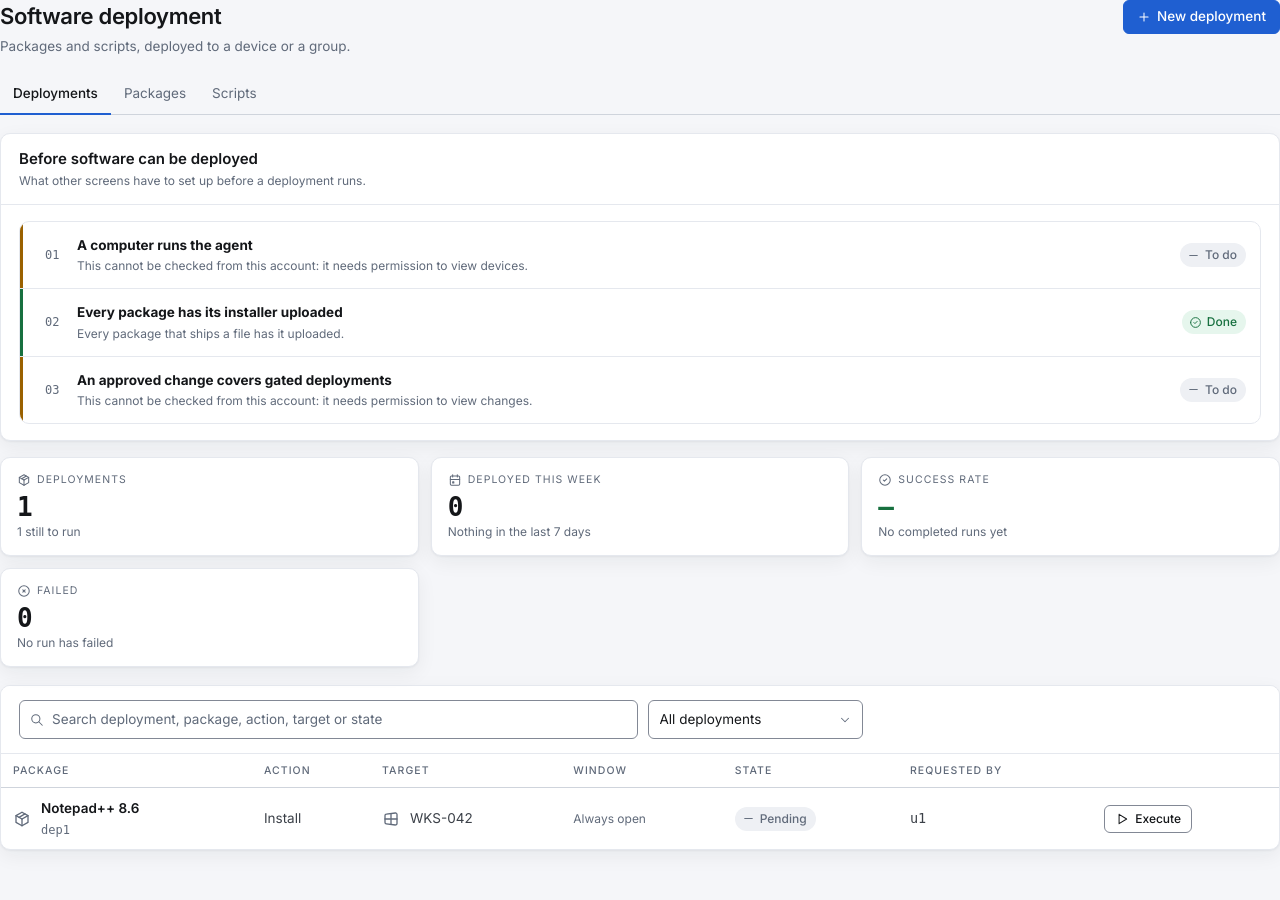
Test: CreateDeploymentDialog › refuses an empty form and names both missing fields on screen
The image size is (1280, 900).
Expected: the text "dep1" is shown, [41,823,70,837]
Click the button "New deployment".
click(1202, 17)  # box [1123,0,1279,34]
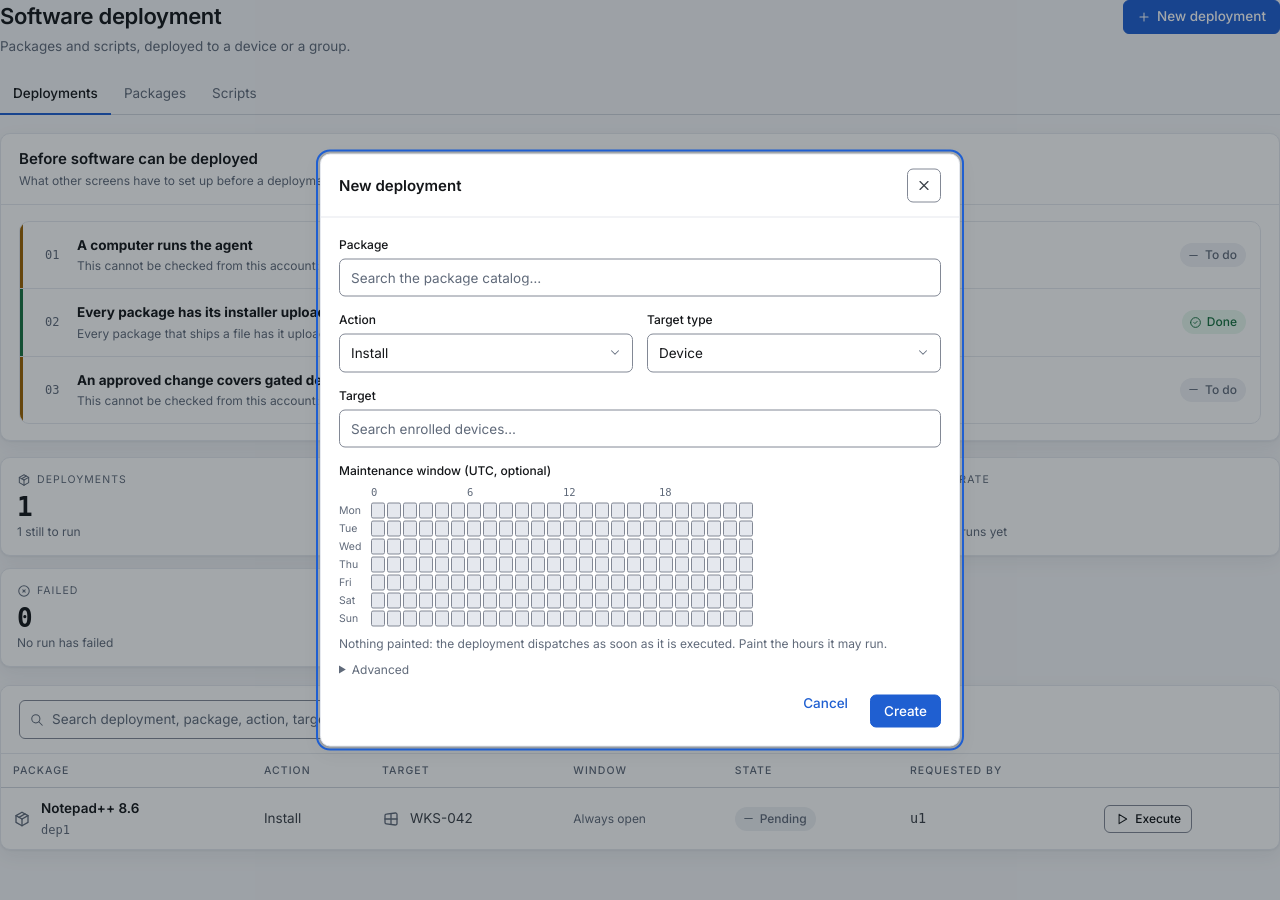
Click the button "Create".
click(906, 711)  # box [870,694,941,728]
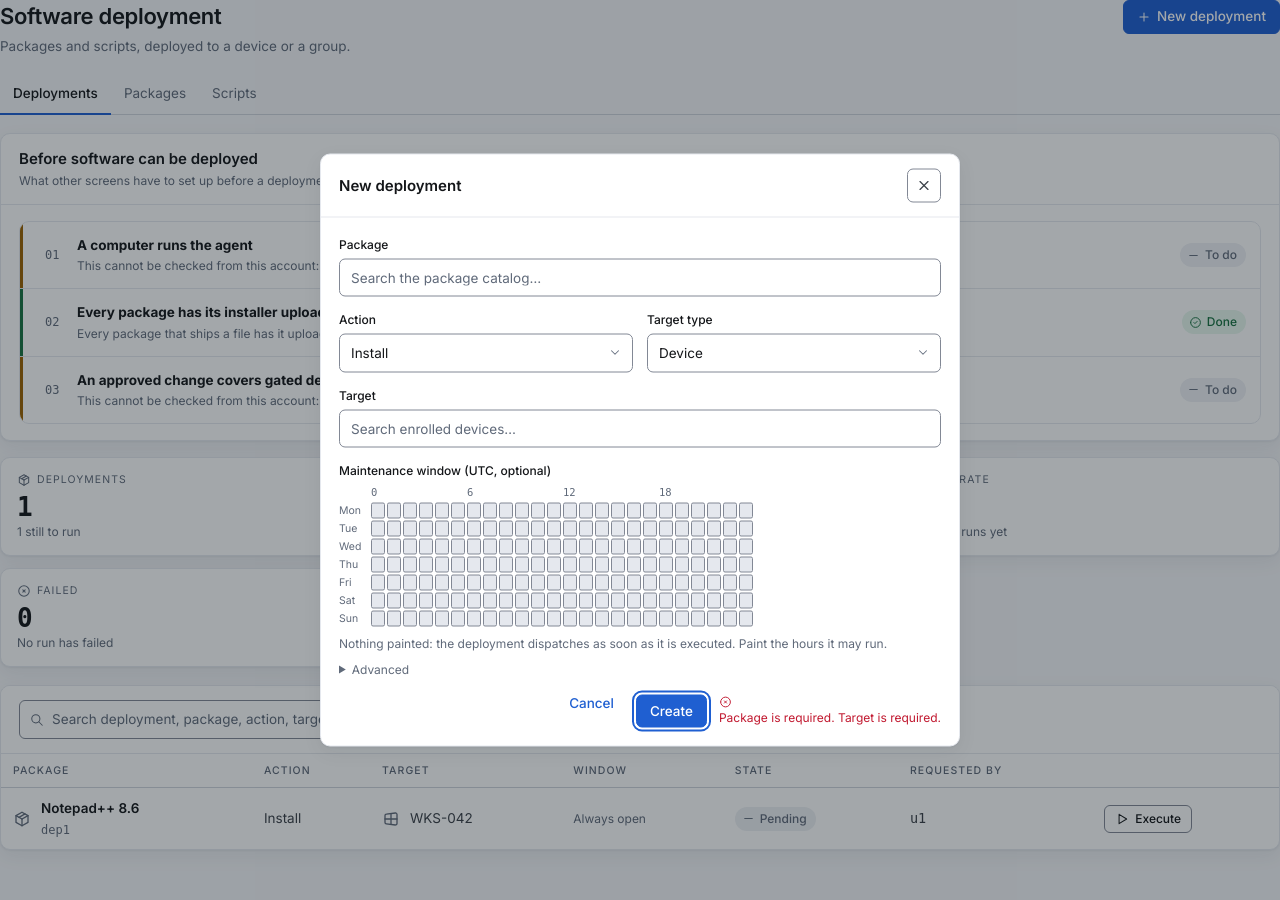
Result: the message shows "Package is required" at [719,709,938,724]
Result: the message shows "Target is required" at [719,709,938,724]
